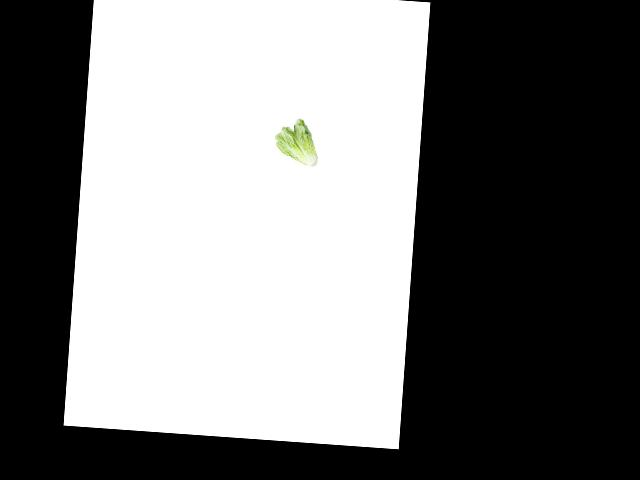lettuce: (266, 116, 321, 168)
